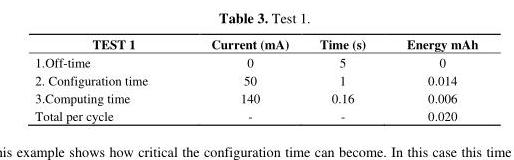table: (34, 34, 477, 123)
table column: (34, 34, 178, 123), (178, 34, 303, 123), (385, 34, 477, 123), (303, 34, 385, 123)
table column header: (34, 34, 477, 52)
table row: (34, 34, 477, 52), (34, 52, 477, 70), (34, 70, 477, 88), (34, 88, 477, 106), (34, 106, 477, 123)
